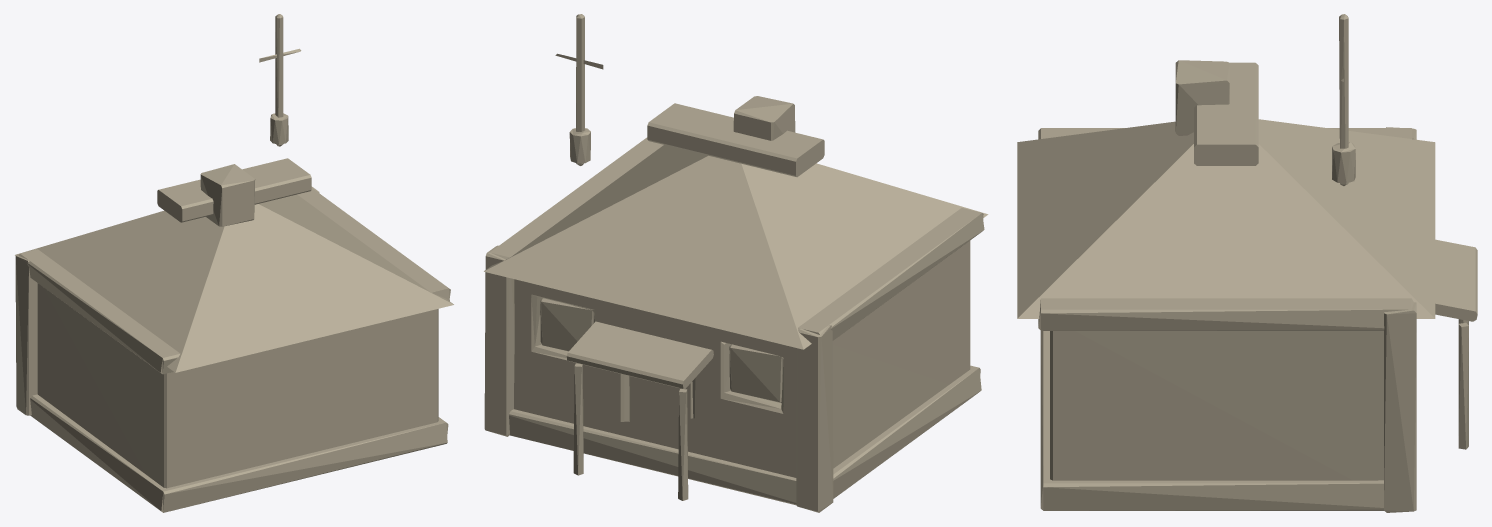
Rendered from camp_hq.lod1.glb.
3 renders of one model, left to right at view 1: azimuth 30°, elevation 25°; view 2: azimuth 150°, elevation 25°; view 3: azimuth 270°, elevation 25°, orthographic. The views are drawn at different scales.
Size of the model in its own units: 3.74 by 4.37 by 3.92.
